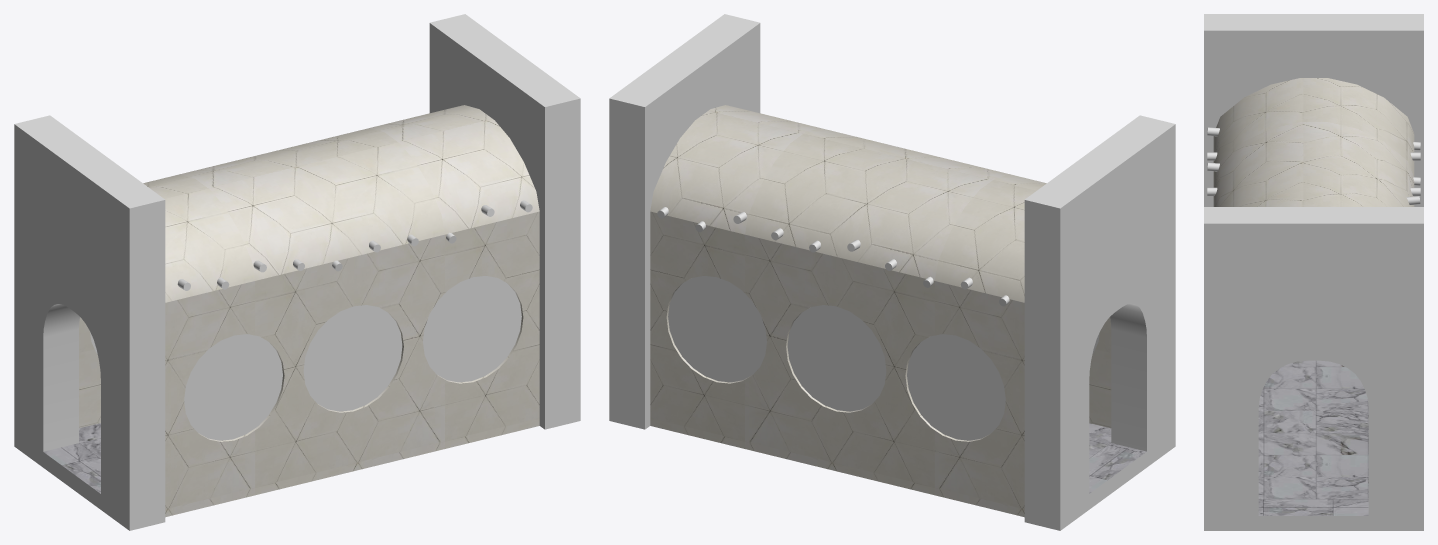
File: Building2.fbx
The picture shows the model from 3 angles, left to right: view 1: azimuth 30°, elevation 25°; view 2: azimuth 150°, elevation 25°; view 3: azimuth 270°, elevation 25°; orthographic projection. The views are drawn at different scales.
Visible parts, largest first — view 1: Cube.004, Cube.001, Cube.003, Cube.002, Cylinder.001; view 2: Cube.004, Cube.001, Cube.003, Cube.002, Cylinder.001; view 3: Cube.004, Cube.003, Cube, Cylinder.001.
Part boxes in pixels (x1=…): Cube.004: x1=14, y1=14, x2=580, y2=530; Cube.001: x1=79, y1=211, x2=539, y2=517; Cube.003: x1=143, y1=105, x2=539, y2=302; Cube.002: x1=90, y1=276, x2=521, y2=440; Cylinder.001: x1=177, y1=134, x2=532, y2=290; Cube.004: x1=609, y1=14, x2=1175, y2=530; Cube.001: x1=650, y1=211, x2=1111, y2=517; Cube.003: x1=650, y1=105, x2=1046, y2=302; Cube.002: x1=668, y1=276, x2=1099, y2=440; Cylinder.001: x1=657, y1=207, x2=1009, y2=306; Cube.004: x1=1204, y1=14, x2=1423, y2=530; Cube.003: x1=1213, y1=78, x2=1414, y2=206; Cube: x1=1258, y1=360, x2=1368, y2=499; Cylinder.001: x1=1207, y1=127, x2=1420, y2=204.
Size of the model in its own units: 5.94 by 4.06 by 2.63.
Materials: 3 (2 with a texture image).
